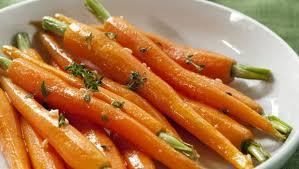Organic: (1, 2, 299, 169)
